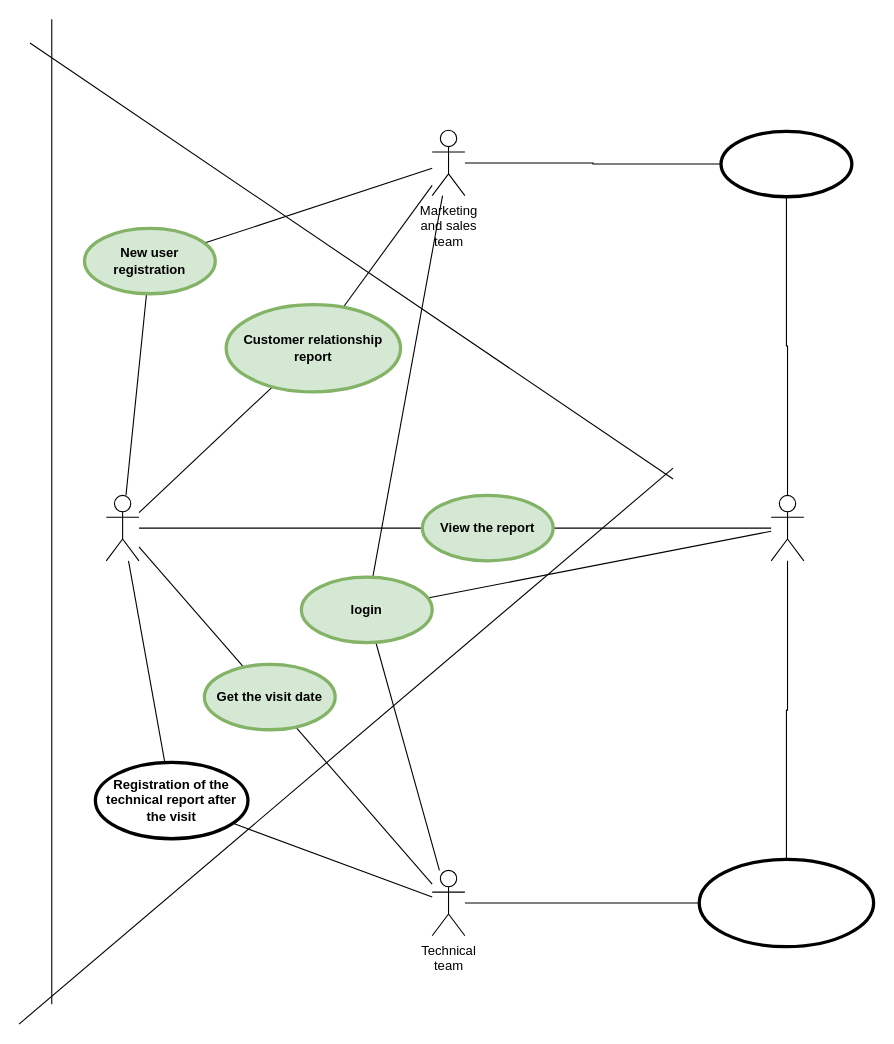
Some shapes in this 894 by 1044 pixel diagram are drawn without their labels. Here are the shapes that lost their labels. From the top down, the box of each, then its label:
(719, 129, 853, 198): Find a customer
(105, 494, 139, 561): WebSite (Front, Back, D.B)
(770, 494, 804, 561): Customer
(697, 857, 875, 948): Going to the customer's place and checking the technical systems
